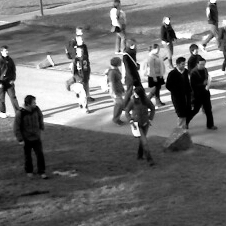person: (14, 92, 50, 179), (126, 85, 155, 162), (191, 57, 219, 131), (165, 57, 192, 131), (104, 57, 130, 126), (123, 39, 144, 110), (70, 48, 93, 112), (145, 42, 167, 108), (1, 45, 19, 119), (108, 1, 130, 55), (160, 15, 178, 70), (202, 1, 222, 50), (187, 42, 206, 80), (69, 34, 87, 63), (217, 19, 226, 72), (73, 23, 86, 35)
